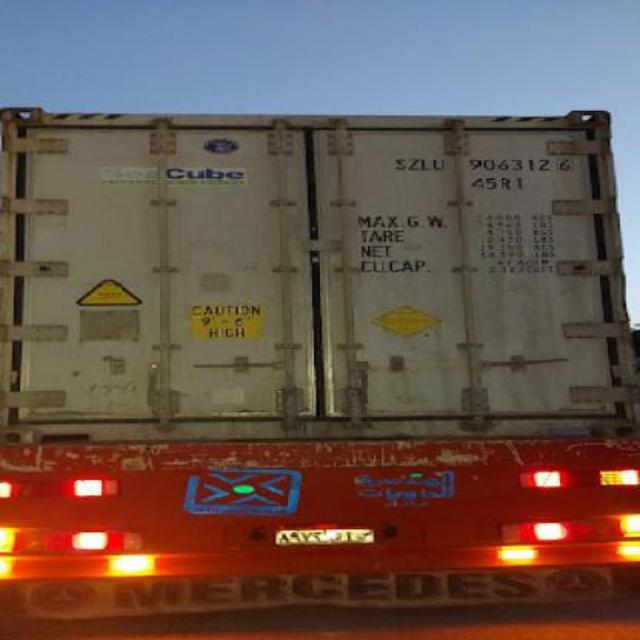0: (482, 159, 496, 171)
1: (524, 157, 538, 170)
2: (536, 158, 552, 172)
3: (510, 159, 526, 171)
6: (496, 158, 512, 172), (558, 159, 572, 171)
9: (468, 159, 480, 171)
L: (418, 158, 434, 172)
S: (390, 158, 408, 170)
U: (430, 158, 446, 172)
Z: (406, 157, 419, 170)
